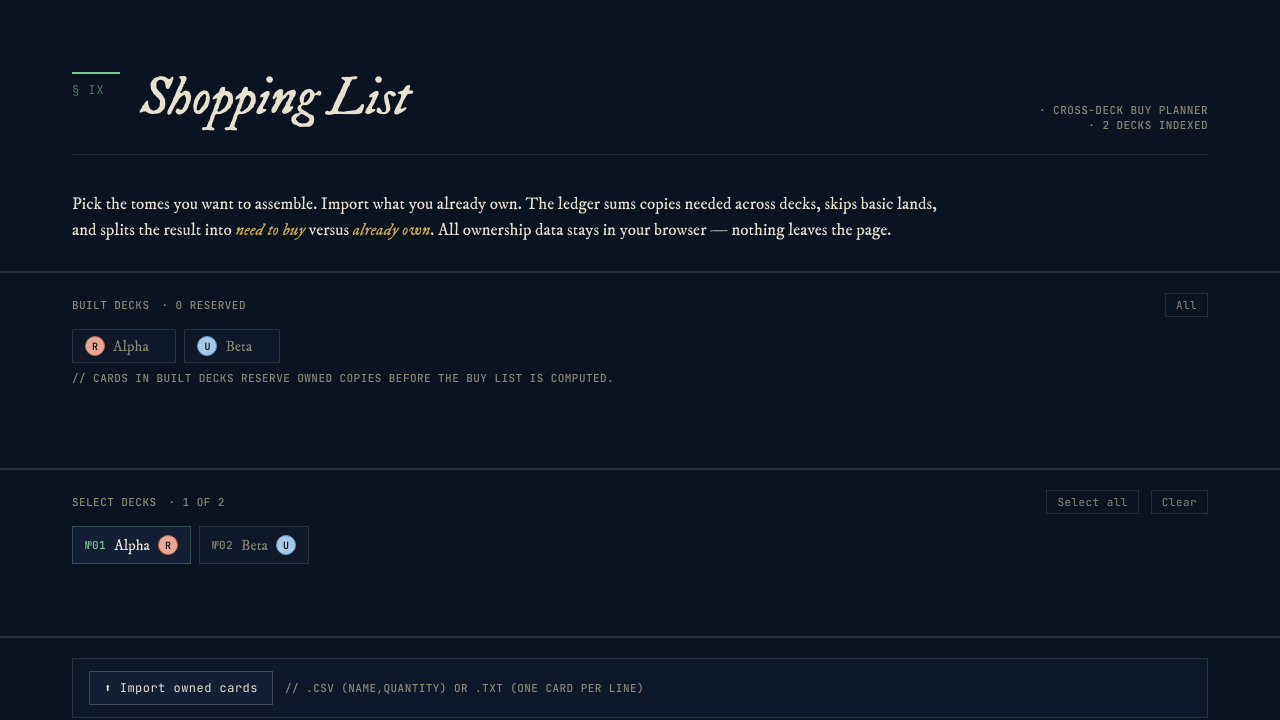
Test case: Shopping organism › Clear empties the selection and does not re-select the first deck (DEC-172)
The width and height of the screenshot is (1280, 720).
Click the button "Clear".
click(1179, 502)  # box [1151,490,1208,514]
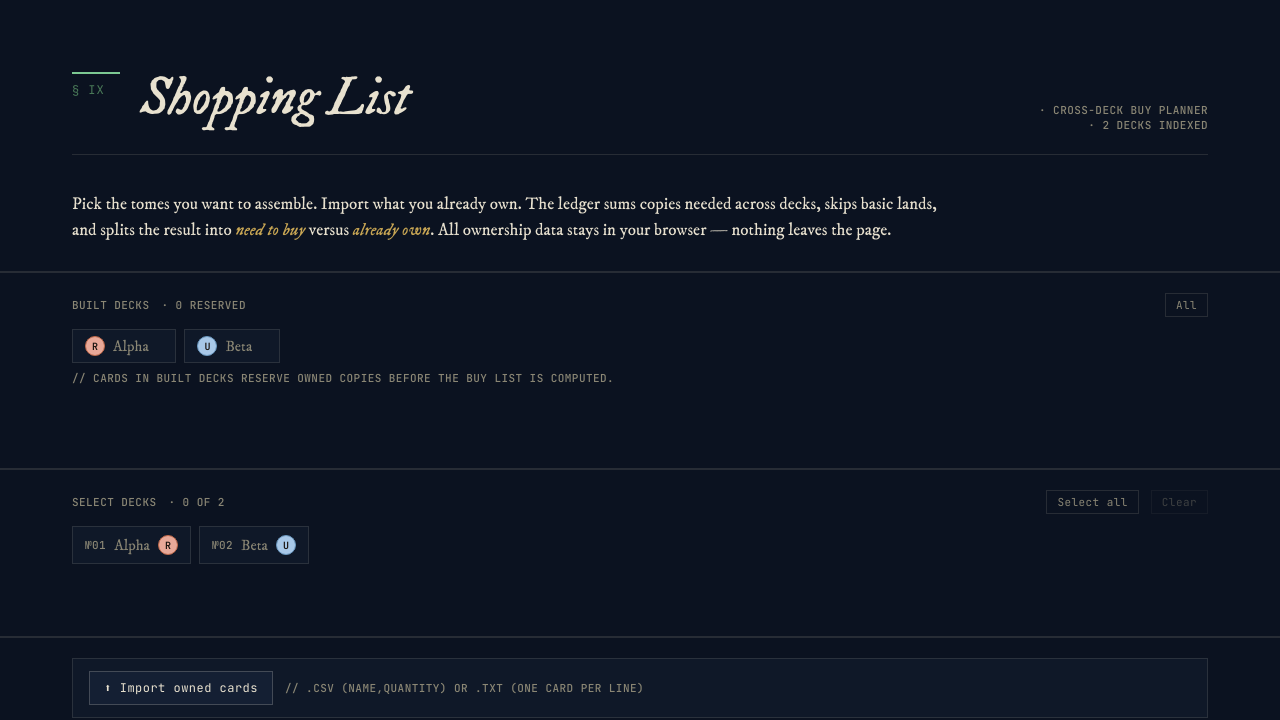
Result: the text "· 0 of 2" is shown at [168,496,225,510]
